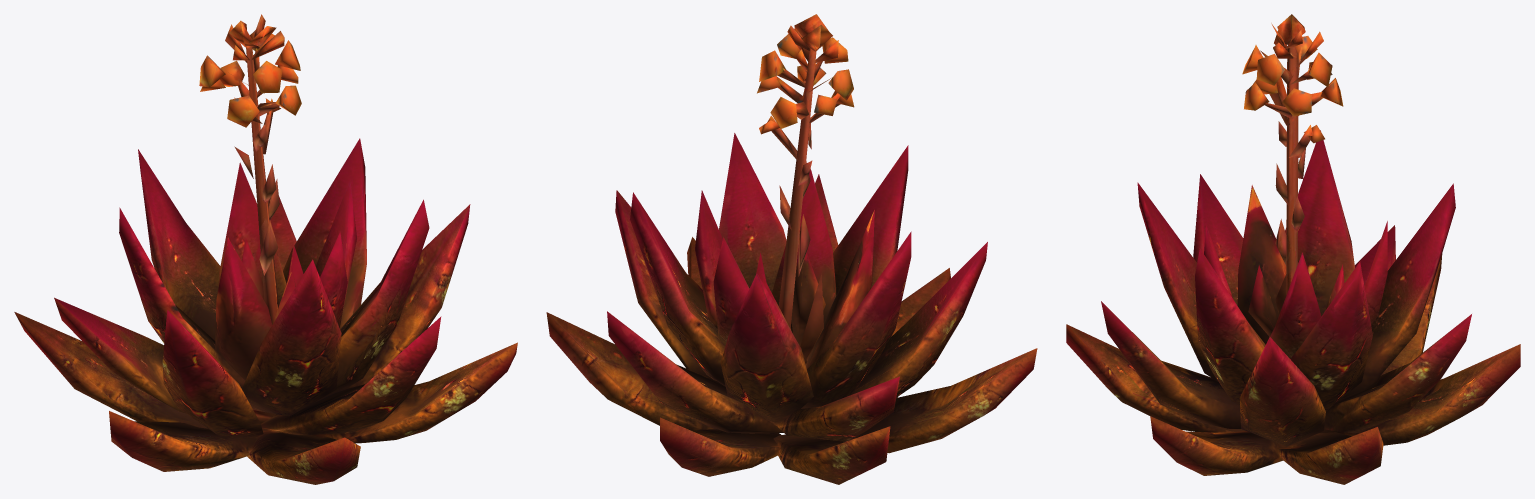
File: nature-red-fire-succulent.glb
3 views of the same model, side by side, from view 1: azimuth 30°, elevation 25°; view 2: azimuth 150°, elevation 25°; view 3: azimuth 270°, elevation 25° (orthographic). The views are drawn at different scales.
Bounding box in the file's own units: 1 × 0.9972 × 1.
1 material, 1 textured.
